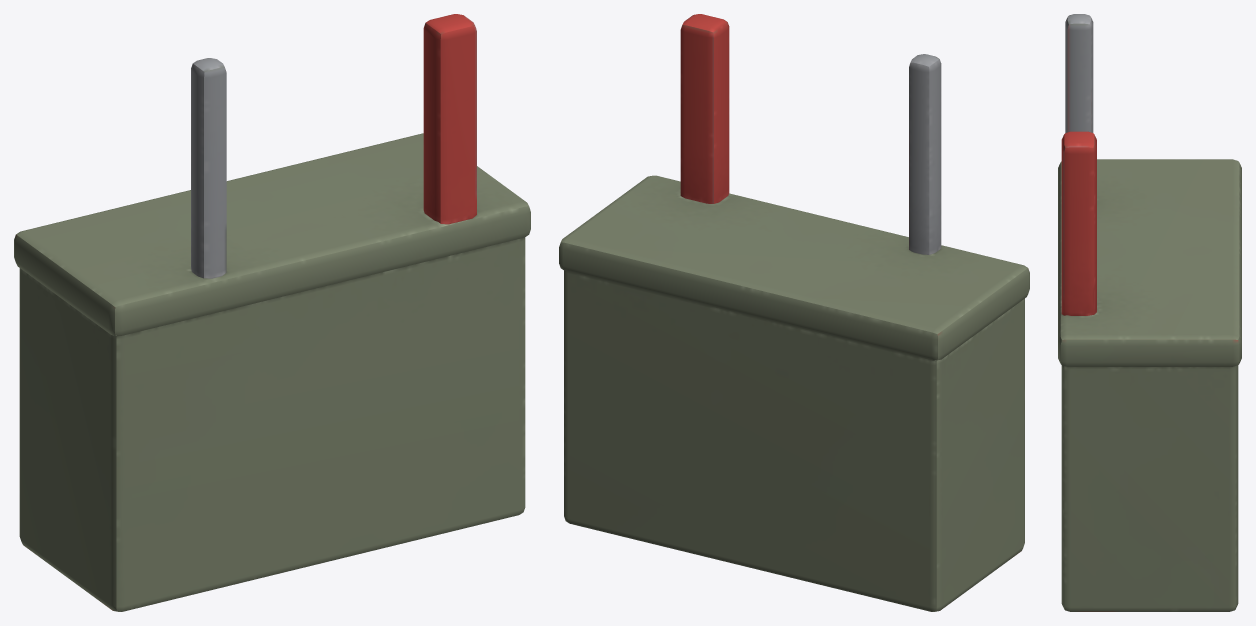
The model's file is kit.fbx.
3 views of the same model, side by side, from view 1: azimuth 30°, elevation 25°; view 2: azimuth 150°, elevation 25°; view 3: azimuth 270°, elevation 25° (orthographic). The views are drawn at different scales.
Visible parts, largest first — view 1: kit; view 2: kit; view 3: kit.
Part boxes in pixels (left/top/right/bottom): kit: left=14, top=14, right=530, bottom=611; kit: left=559, top=14, right=1029, bottom=611; kit: left=1058, top=14, right=1241, bottom=611.
Bounding box in the file's own units: 0.122 × 0.145 × 0.052.
